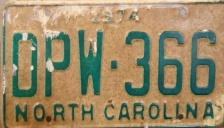3: (123, 29, 154, 99)
6: (155, 28, 187, 98), (188, 28, 219, 97)
D: (10, 30, 41, 99)
P: (41, 30, 74, 100)
W: (76, 28, 106, 98)
